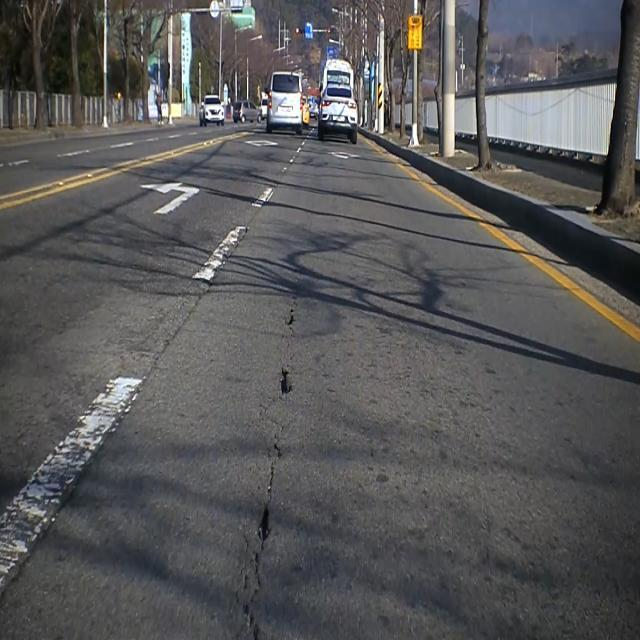pothole: (238, 499, 277, 640), (279, 296, 303, 341), (270, 361, 295, 402)
